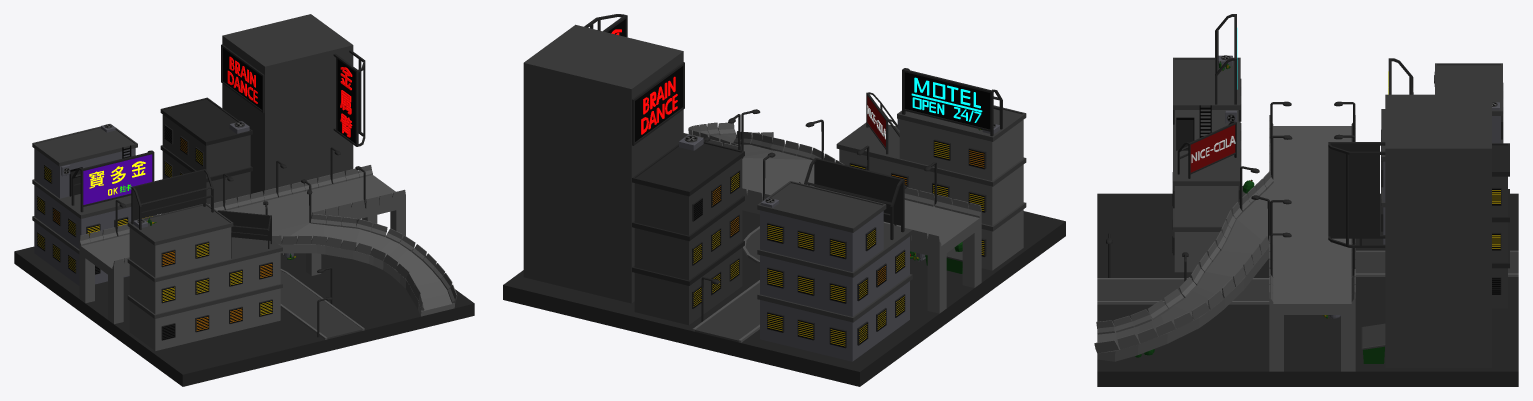
The model's file is Mapa_separado.fbx.
3 views of the same model, side by side, from view 1: azimuth 30°, elevation 25°; view 2: azimuth 150°, elevation 25°; view 3: azimuth 270°, elevation 25° (orthographic). The views are drawn at different scales.
Visible parts, largest first — view 1: Cube.083, predinho3.001, Cube, Minhocao, predinho2, predinho.001, Cube.148, Cube.022, Plane, Cube.002, Cube.147, Cube.149 (+1 smaller); view 2: Cube, predinho2, Cube.083, predinho.001, predinho3.001, Minhocao, Cube.148, Cube.022, Plane, Cube.147, Cube.028, Cube.225 (+2 smaller); view 3: Cube, Cube.083, Minhocao, predinho3.001, Cube.002, Plane, predinho2, predinho.001, Cube.149, Cube.014, Cube.148, Cube.192.
Boxes of the visible parts, bbox=[...] form: Cube.083: bbox=[14, 219, 474, 386]; predinho3.001: bbox=[127, 203, 282, 350]; Cube: bbox=[222, 14, 353, 194]; Minhocao: bbox=[79, 175, 454, 324]; predinho2: bbox=[32, 125, 156, 285]; predinho.001: bbox=[160, 97, 252, 213]; Cube.148: bbox=[131, 169, 213, 229]; Cube.022: bbox=[71, 150, 154, 212]; Plane: bbox=[280, 269, 364, 339]; Cube.002: bbox=[333, 50, 365, 146]; Cube.147: bbox=[221, 44, 264, 112]; Cube.149: bbox=[217, 210, 271, 248]; Cube: bbox=[523, 24, 683, 303]; predinho2: bbox=[757, 181, 912, 361]; Cube.083: bbox=[503, 210, 1065, 386]; predinho.001: bbox=[632, 141, 744, 325]; predinho3.001: bbox=[836, 105, 1026, 270]; Minhocao: bbox=[709, 135, 981, 313]; Cube.148: bbox=[902, 68, 1002, 136]; Cube.022: bbox=[804, 157, 904, 239]; Plane: bbox=[692, 226, 759, 342]; Cube.147: bbox=[632, 62, 684, 145]; Cube.028: bbox=[911, 77, 982, 122]; Cube.225: bbox=[641, 76, 677, 134]; Cube: bbox=[1385, 94, 1491, 367]; Cube.083: bbox=[1097, 193, 1518, 386]; Minhocao: bbox=[1097, 126, 1355, 371]; predinho3.001: bbox=[1173, 57, 1240, 272]; Cube.002: bbox=[1328, 142, 1385, 247]; Plane: bbox=[1097, 250, 1518, 304]; predinho2: bbox=[1381, 63, 1502, 244]; predinho.001: bbox=[1492, 143, 1509, 308]; Cube.149: bbox=[1177, 121, 1236, 178]; Cube.014: bbox=[1361, 323, 1385, 363]; Cube.148: bbox=[1215, 14, 1236, 104]; Cube.192: bbox=[1176, 117, 1194, 150].
Size of the model in its own units: 2500 by 1535 by 2517.
